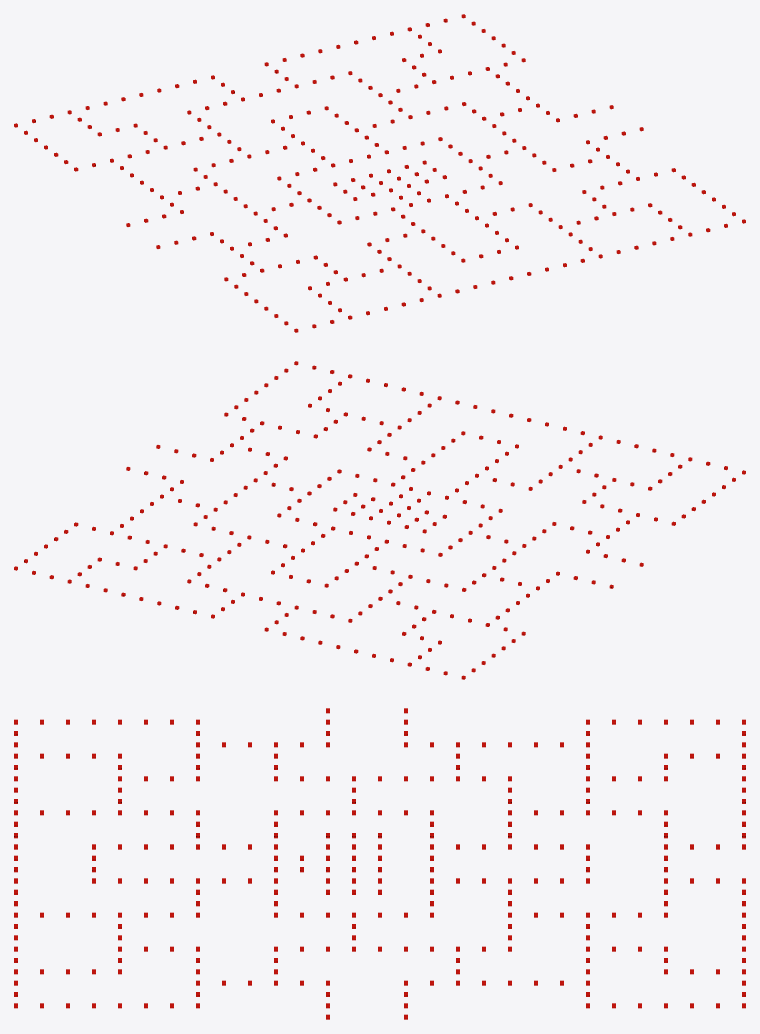
The model's file is Pellets.fbx.
3 views of the same model, one above another, from view 1: azimuth 30°, elevation 25°; view 2: azimuth 150°, elevation 25°; view 3: azimuth 270°, elevation 25° (orthographic). The views are drawn at different scales.
Size of the model in its own units: 54.3 by 0.2807 by 54.54.
